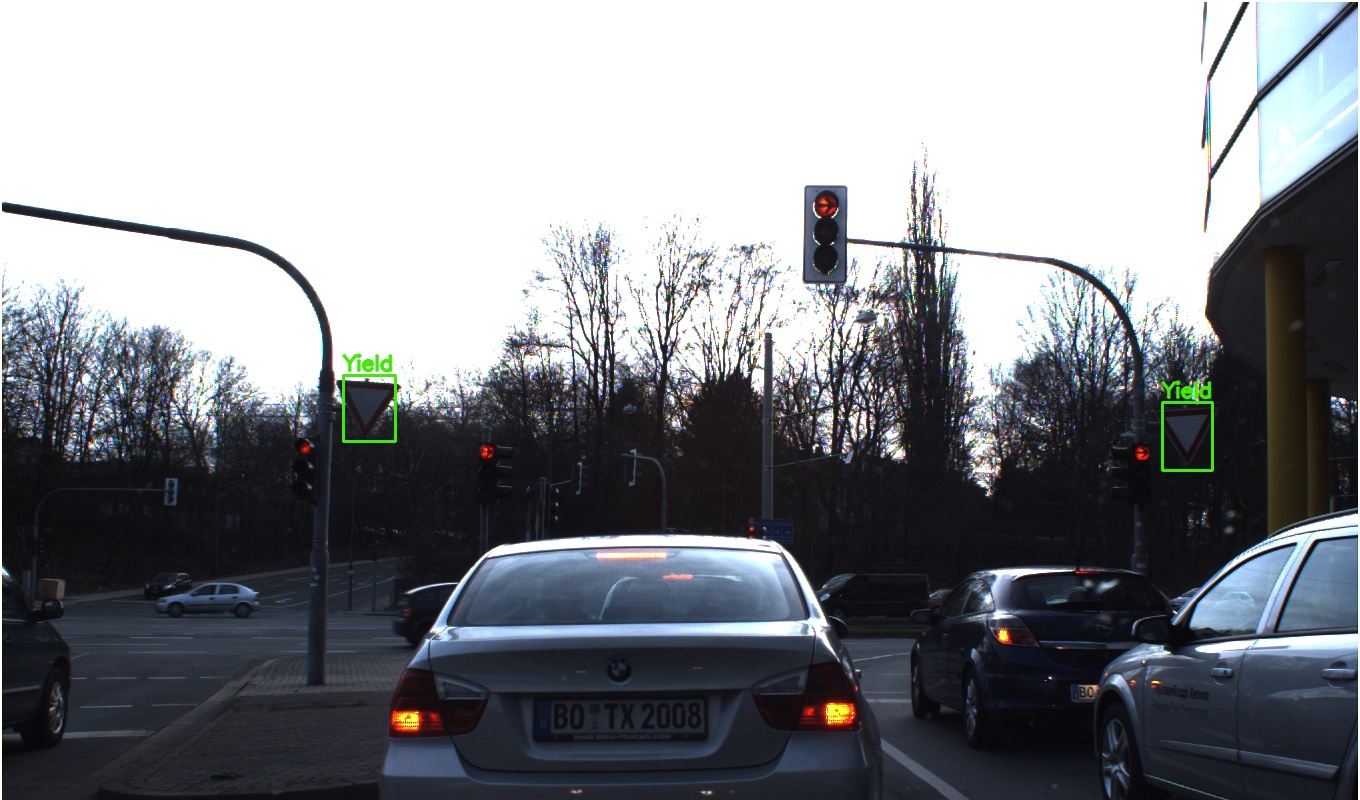No entry: (713, 433, 732, 452), (244, 430, 262, 448), (544, 444, 562, 462)
